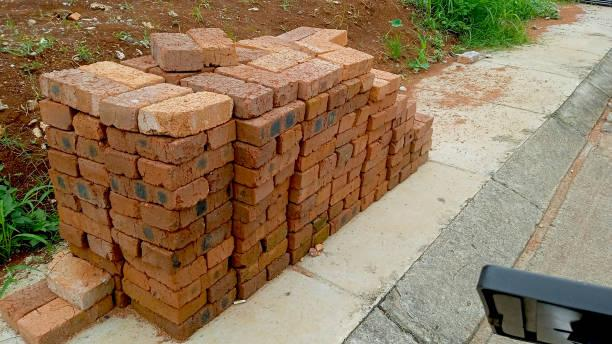Bricks: (108, 183, 238, 230), (122, 256, 231, 304), (135, 142, 235, 192), (180, 69, 278, 118), (39, 68, 134, 118), (100, 81, 193, 132), (18, 297, 118, 343), (139, 91, 231, 136), (113, 174, 213, 212), (108, 212, 205, 250), (47, 258, 114, 313), (121, 252, 213, 291), (218, 65, 303, 105), (123, 288, 212, 324), (308, 92, 371, 136), (237, 140, 299, 184), (243, 100, 305, 142), (81, 59, 168, 88), (286, 58, 346, 99), (0, 281, 52, 328), (54, 168, 110, 211), (138, 132, 206, 166), (239, 238, 287, 286), (238, 209, 289, 251), (324, 44, 377, 81), (58, 210, 113, 244), (241, 184, 292, 220), (232, 134, 279, 170), (145, 34, 202, 62), (248, 48, 311, 73), (292, 170, 339, 202), (302, 129, 348, 159), (182, 24, 236, 48), (143, 244, 197, 268), (358, 91, 397, 123), (291, 199, 330, 231), (372, 98, 409, 131), (300, 27, 342, 54), (298, 142, 336, 171), (331, 200, 362, 234), (204, 221, 234, 256), (299, 182, 334, 212), (210, 119, 242, 150), (331, 176, 361, 207), (210, 269, 239, 300), (362, 166, 390, 198), (337, 149, 366, 178), (48, 150, 78, 178), (338, 120, 368, 148), (79, 199, 110, 226), (202, 205, 232, 232), (209, 237, 235, 268), (359, 159, 387, 187), (211, 162, 238, 191), (166, 49, 205, 69), (362, 179, 388, 209), (45, 126, 77, 149), (38, 103, 71, 125), (324, 82, 351, 108), (108, 130, 138, 153), (278, 126, 308, 149), (243, 271, 270, 296), (90, 235, 118, 259), (371, 74, 394, 103), (387, 151, 412, 177), (78, 139, 106, 162), (80, 164, 109, 186), (54, 186, 78, 212), (274, 162, 297, 189), (265, 195, 288, 222), (367, 132, 394, 155), (241, 183, 271, 203), (58, 220, 80, 247), (303, 93, 328, 116), (391, 132, 416, 155), (207, 43, 234, 64), (105, 155, 138, 172), (364, 147, 389, 169), (372, 122, 396, 144), (269, 252, 289, 276), (292, 226, 313, 248), (399, 100, 418, 124), (397, 117, 415, 141), (76, 117, 97, 137), (343, 74, 362, 96), (359, 72, 377, 95), (239, 221, 262, 239), (329, 174, 348, 195), (294, 171, 321, 185), (320, 155, 341, 173), (293, 245, 310, 264), (348, 163, 362, 186), (313, 225, 329, 245), (342, 113, 357, 133), (344, 188, 358, 208), (328, 203, 342, 220), (342, 143, 355, 161), (350, 137, 369, 149)
